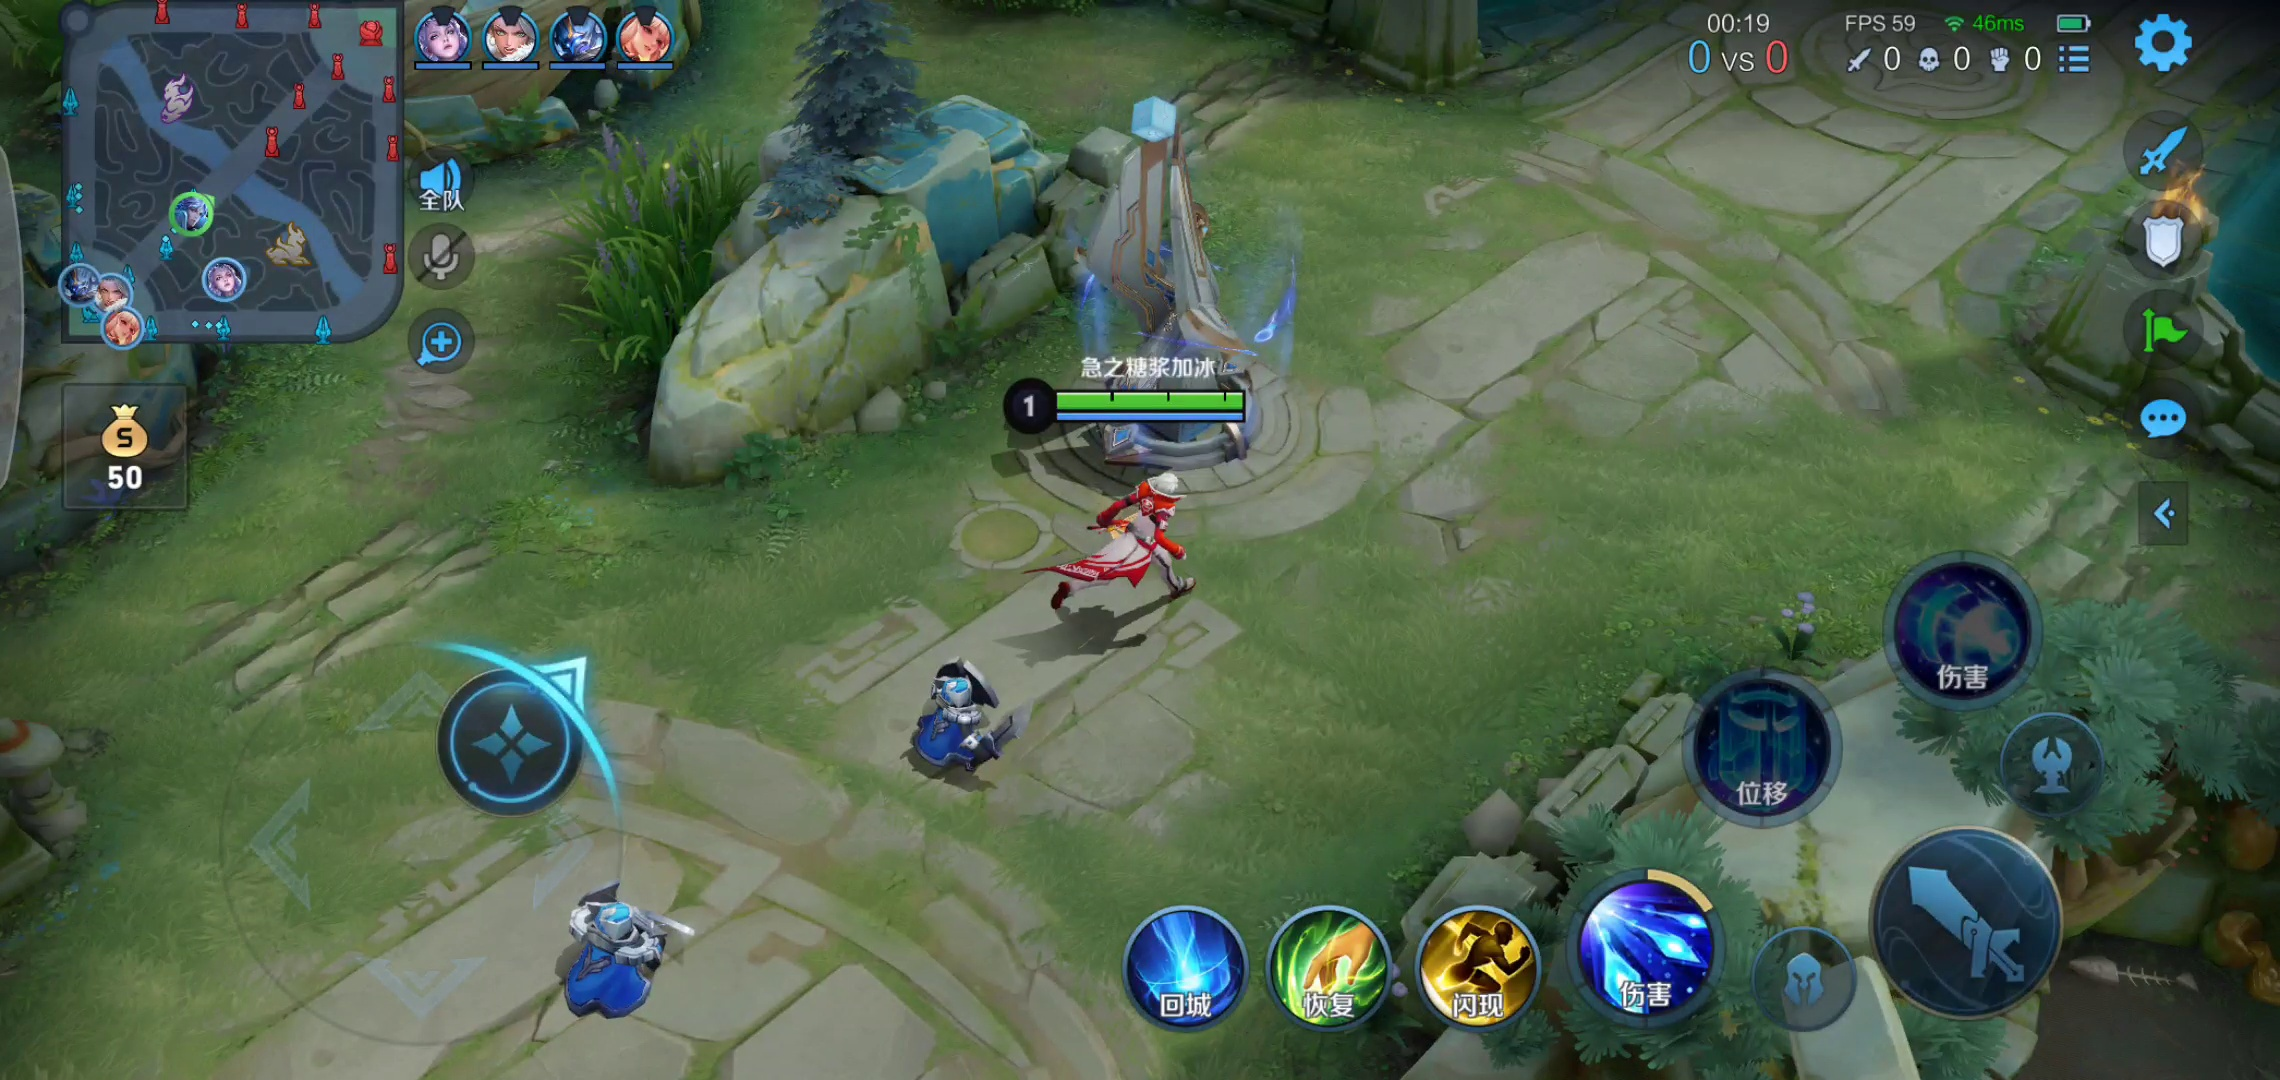grass: (534, 119, 749, 372)
hero: (1034, 464, 1235, 616)
soldier: (521, 881, 707, 1017), (888, 640, 1041, 786)
tower: (1040, 100, 1314, 485)
